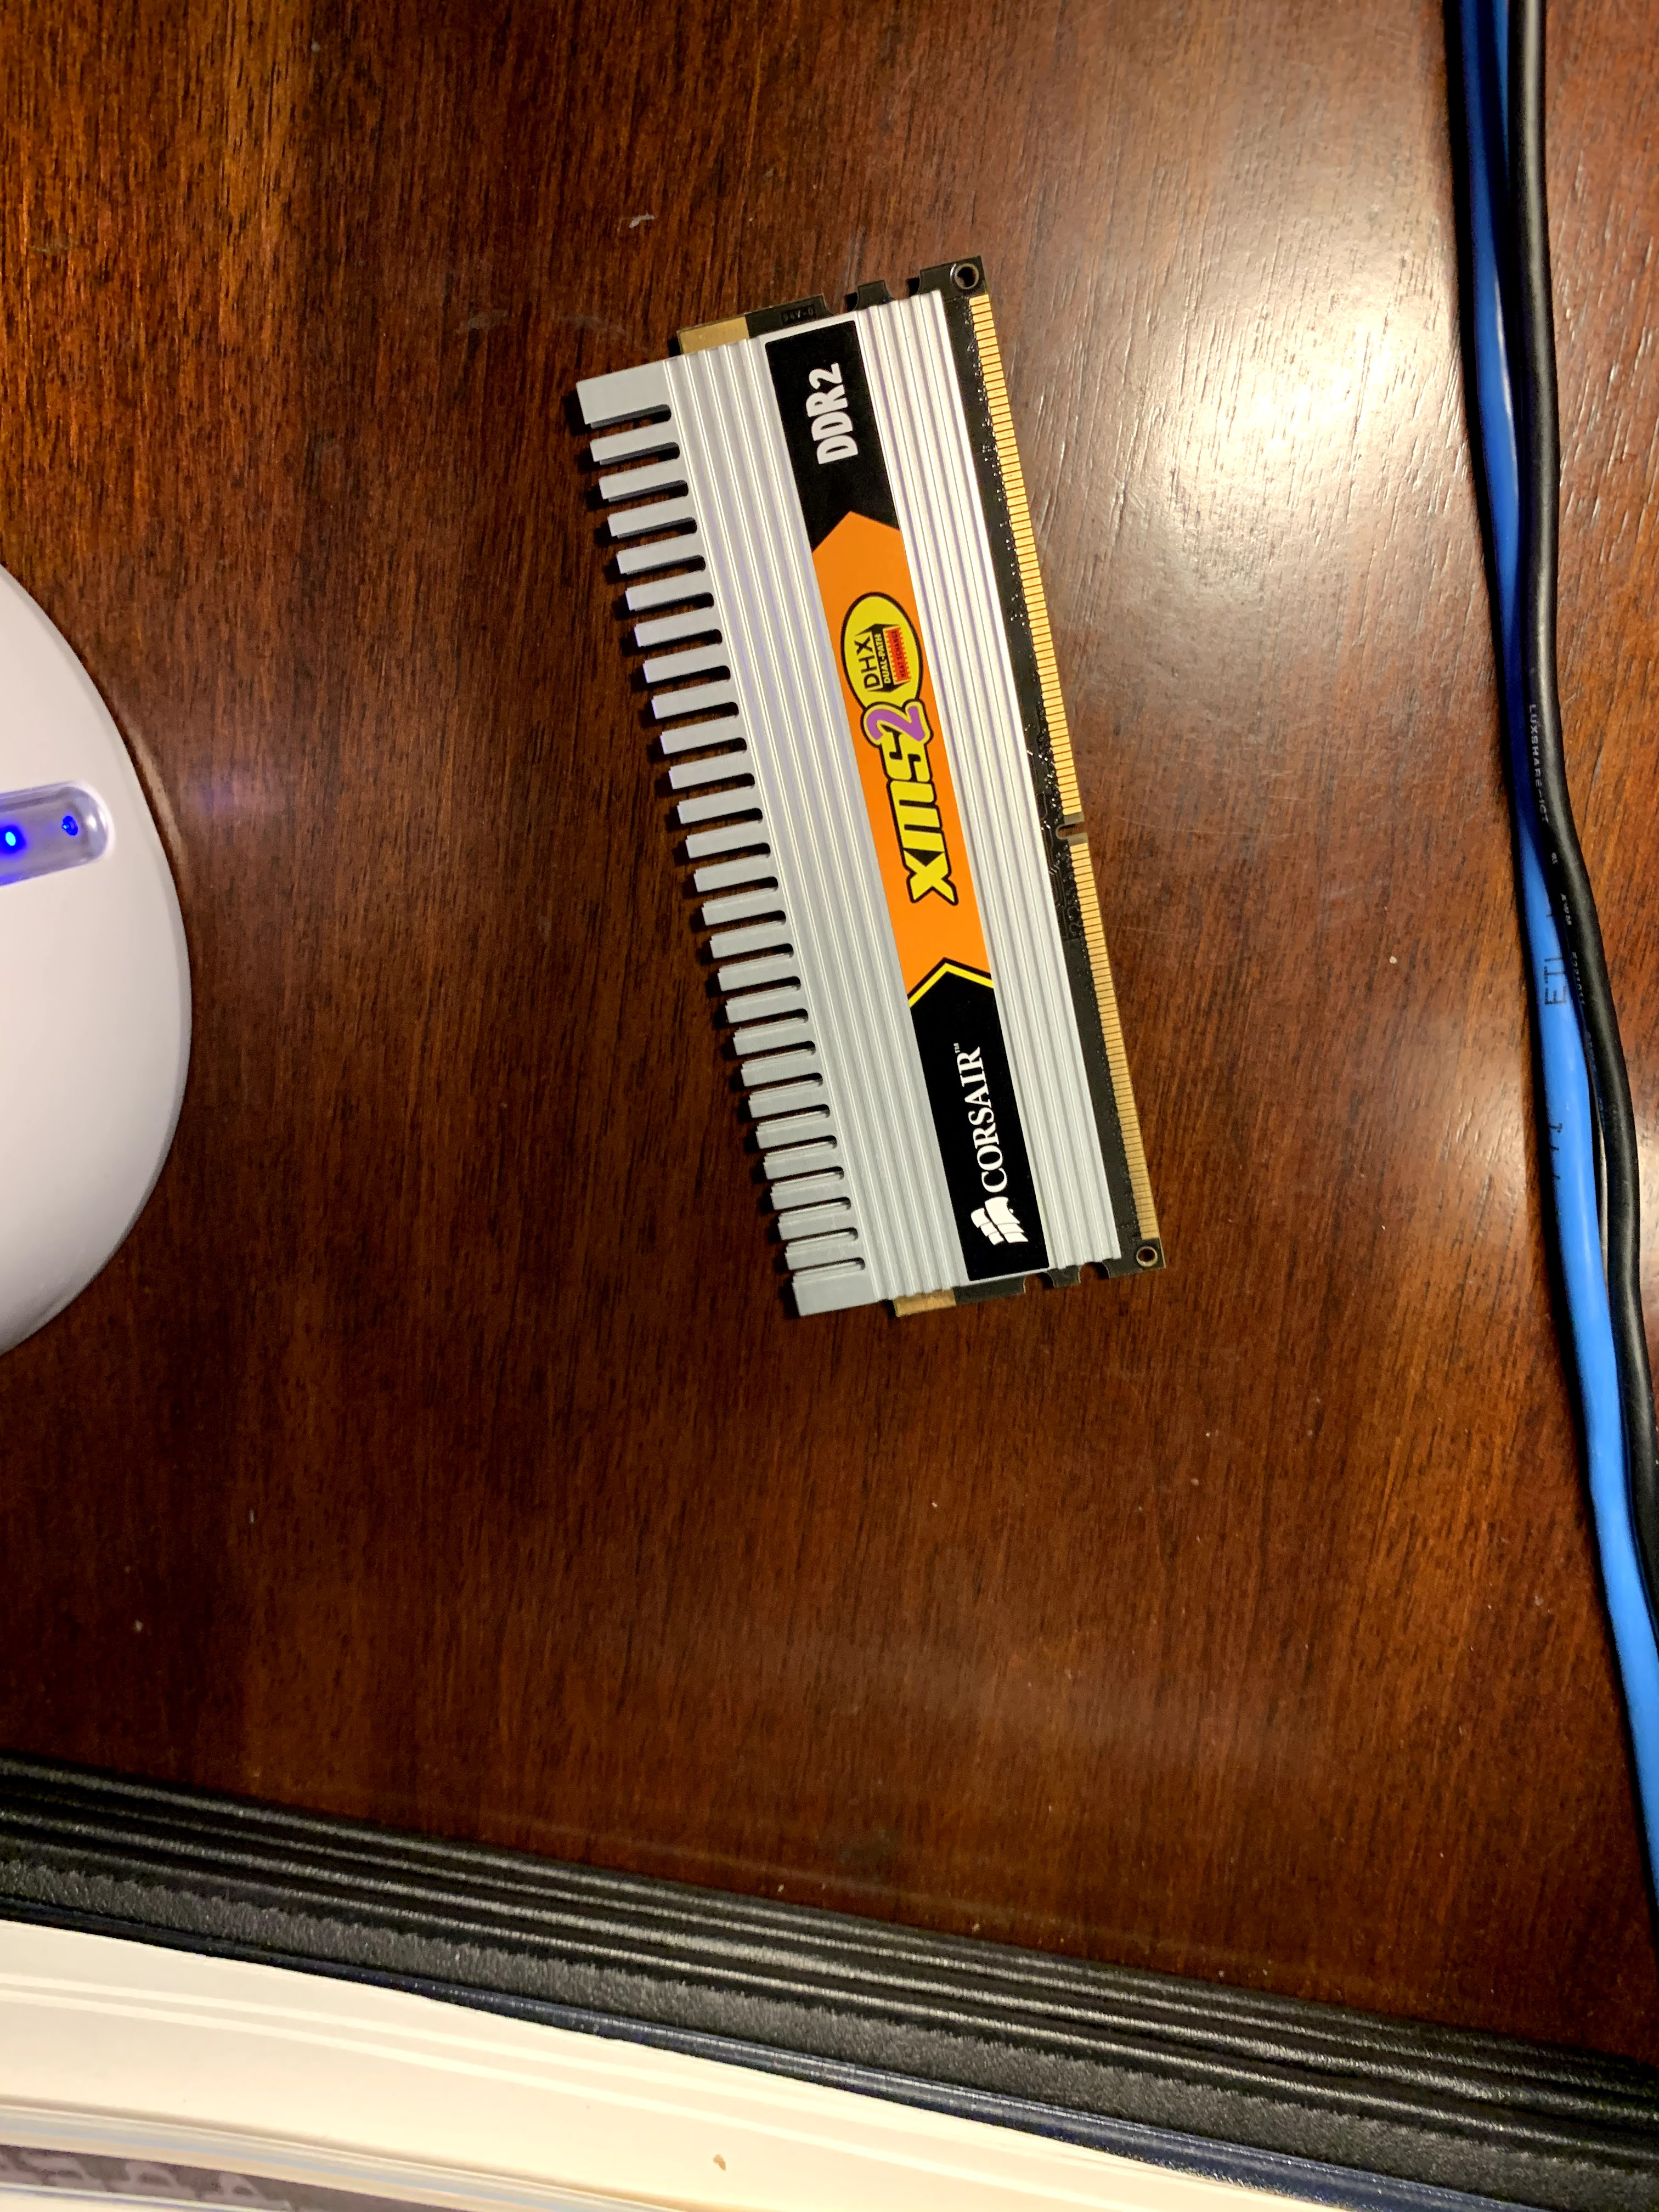Space-debris-medium: (551, 237, 1183, 1327)
